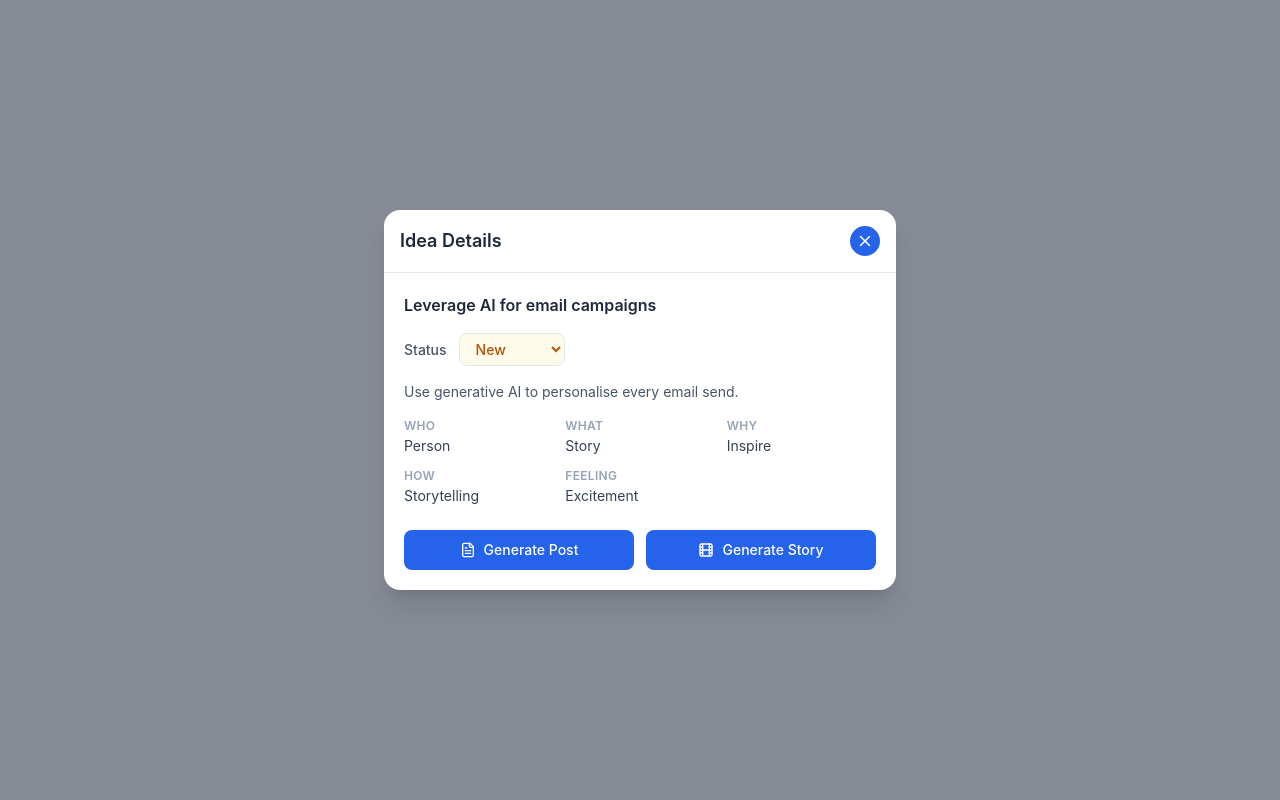
IdeaDetailDlg › shows Save button after selecting a different status
The image size is (1280, 800).
Select "Planned" in the dropdown: (512, 350) left=459, top=333, right=565, bottom=366
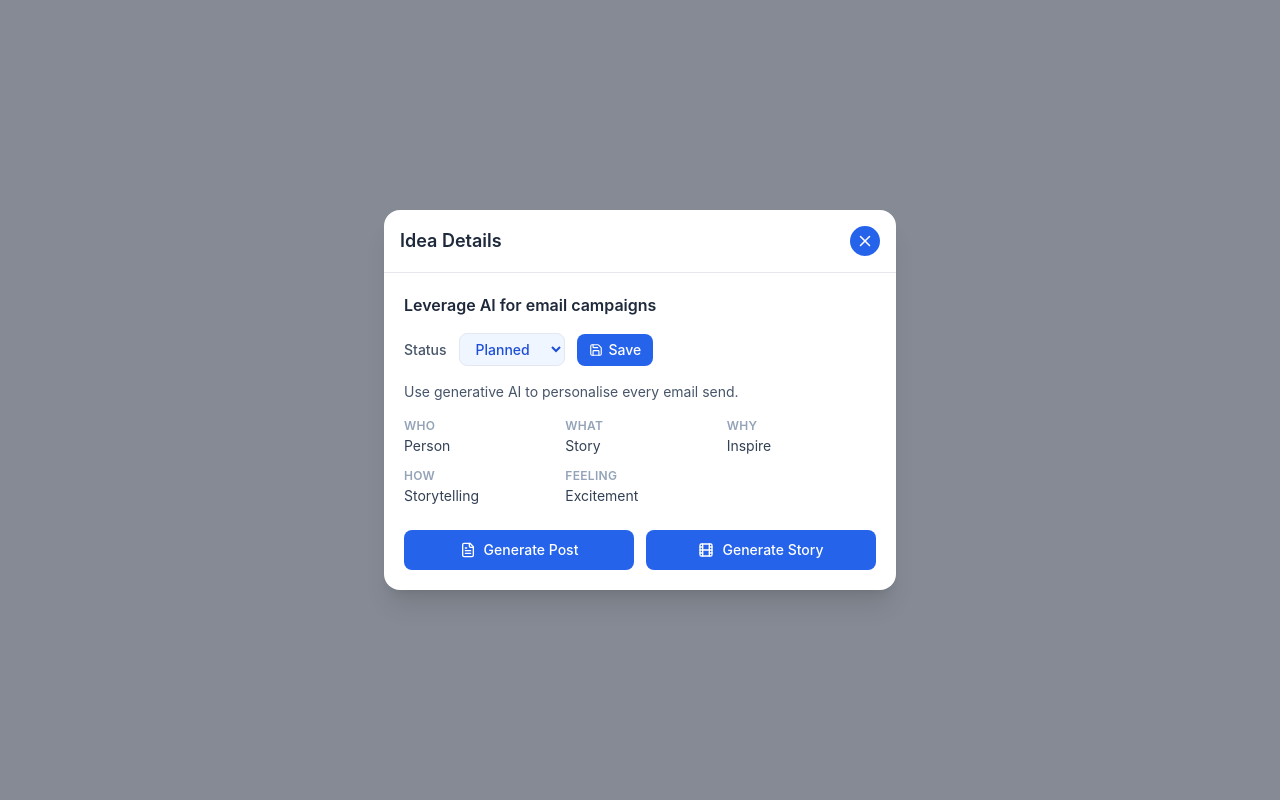
Check: the button "Save" is shown, box left=577, top=334, right=653, bottom=366
